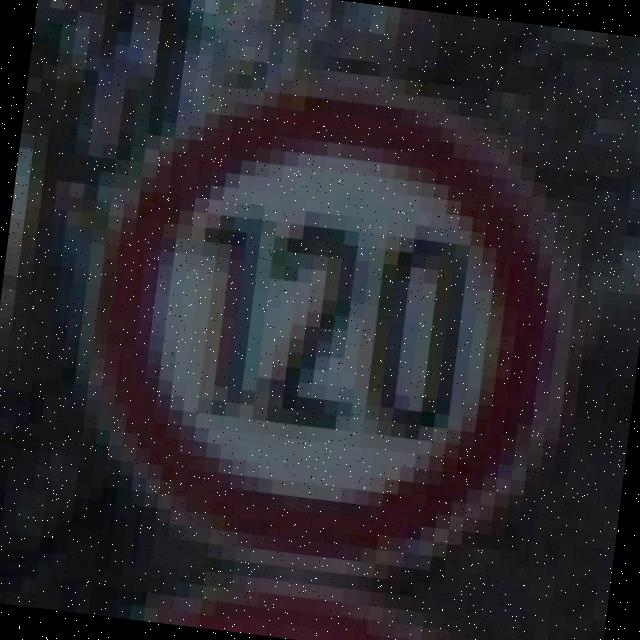Ograniczenie predkosci do 120: (79, 78, 572, 581)
